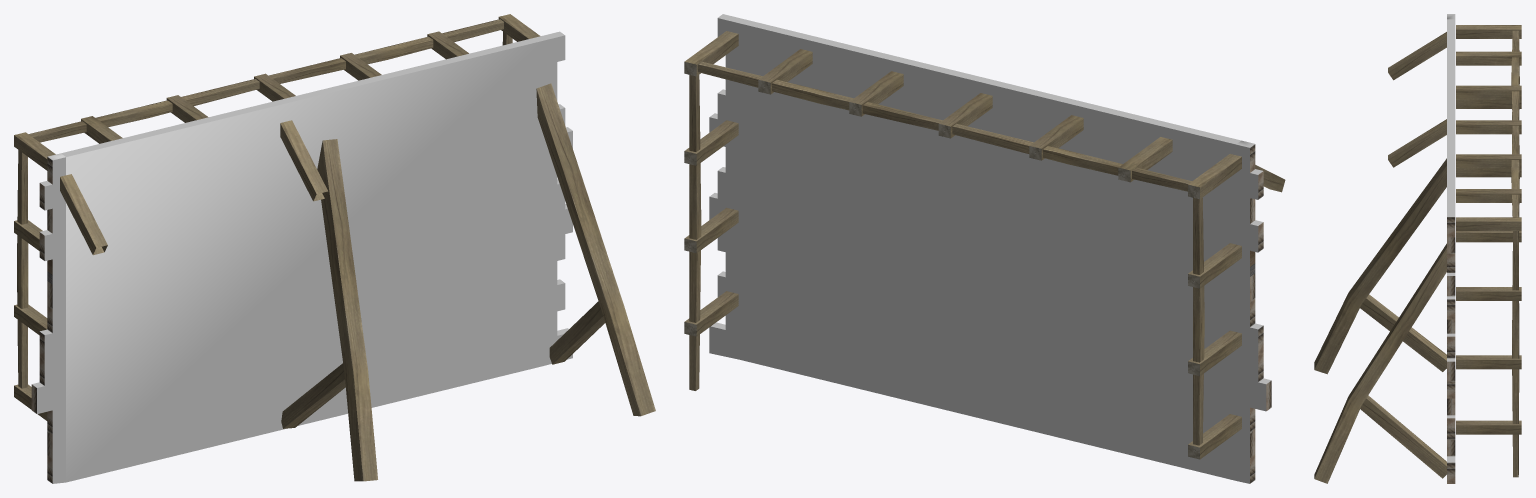
File: Pirate_Bar_Balcony_C.fbx
3 renders of one model, left to right at view 1: azimuth 30°, elevation 25°; view 2: azimuth 150°, elevation 25°; view 3: azimuth 270°, elevation 25°, orthographic. The views are drawn at different scales.
Parts seen in each view (by area): view 1: Pirate_Bar_Balcony_C; view 2: Pirate_Bar_Balcony_C; view 3: Pirate_Bar_Balcony_C.
Part boxes in pixels (left/top/right/bottom): Pirate_Bar_Balcony_C: left=14, top=14, right=655, bottom=483; Pirate_Bar_Balcony_C: left=684, top=14, right=1285, bottom=483; Pirate_Bar_Balcony_C: left=1314, top=14, right=1521, bottom=483.
Size of the model in its own units: 10.66 by 6.18 by 4.38.
